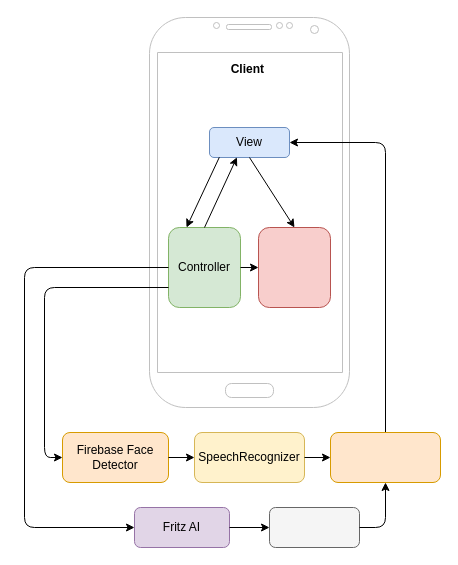
Some shapes in this 458 by 565 pixel diagram are drawn without their labels. Here are the shapes that lost their labels. From the top down, the centre of each, then its label:
[294,267]: Model
[385,457]: Firebase Translator
[314,527]: OwlBot
